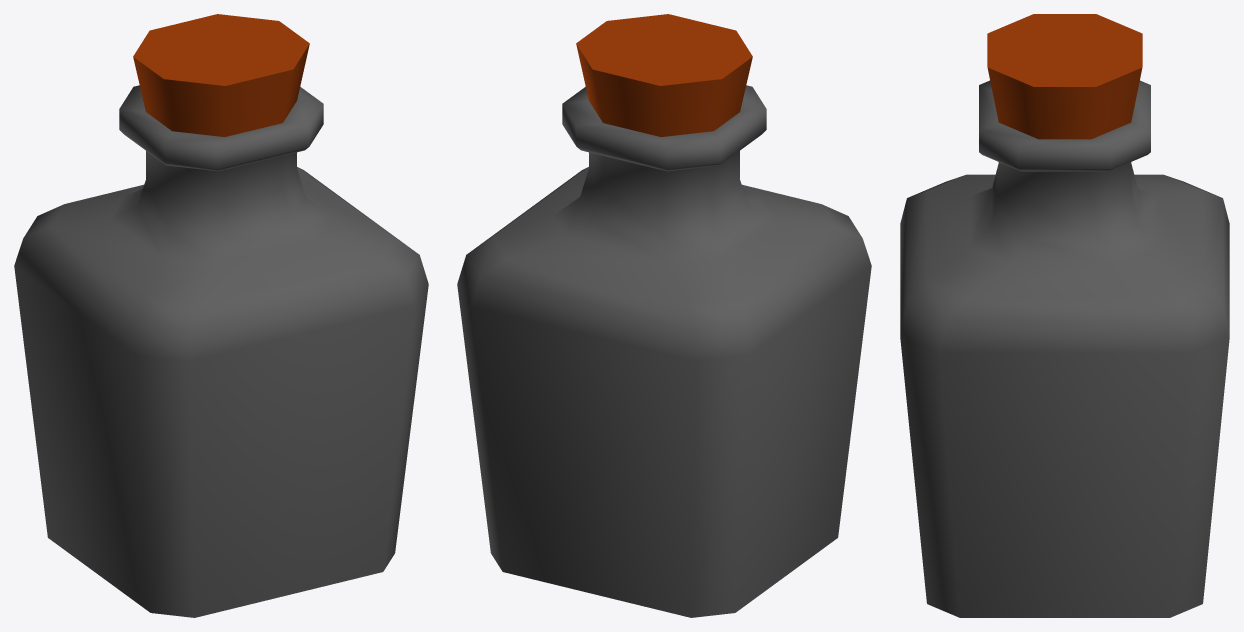
The model's file is Potion.FBX.
The picture shows the model from 3 angles, left to right: view 1: azimuth 30°, elevation 25°; view 2: azimuth 150°, elevation 25°; view 3: azimuth 270°, elevation 25°; orthographic projection. The views are drawn at different scales.
Visible parts, largest first — view 1: Box001, Object001; view 2: Box001, Object001; view 3: Box001, Object001.
Boxes of the visible parts, x1=… form: Box001: x1=14, y1=85, x2=428, y2=617; Object001: x1=133, y1=14, x2=309, y2=136; Box001: x1=457, y1=85, x2=871, y2=617; Object001: x1=576, y1=14, x2=752, y2=136; Box001: x1=900, y1=80, x2=1229, y2=617; Object001: x1=987, y1=14, x2=1142, y2=139.
Size of the model in its own units: 8.73 by 14.17 by 8.36.
